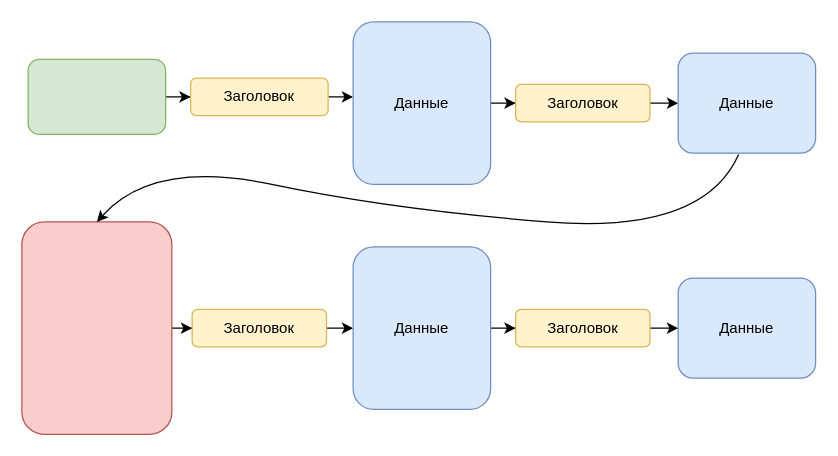
Some shapes in this 838 by 456 pixel diagram are drawn without their labels. Here are the shapes that lost their labels. From the top down, the box of each, then its label:
(27, 58, 166, 134): Структура инициализации
(21, 221, 172, 434): Очищенный участок памяти
